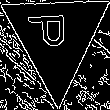P_E: (33, 19, 79, 58)
